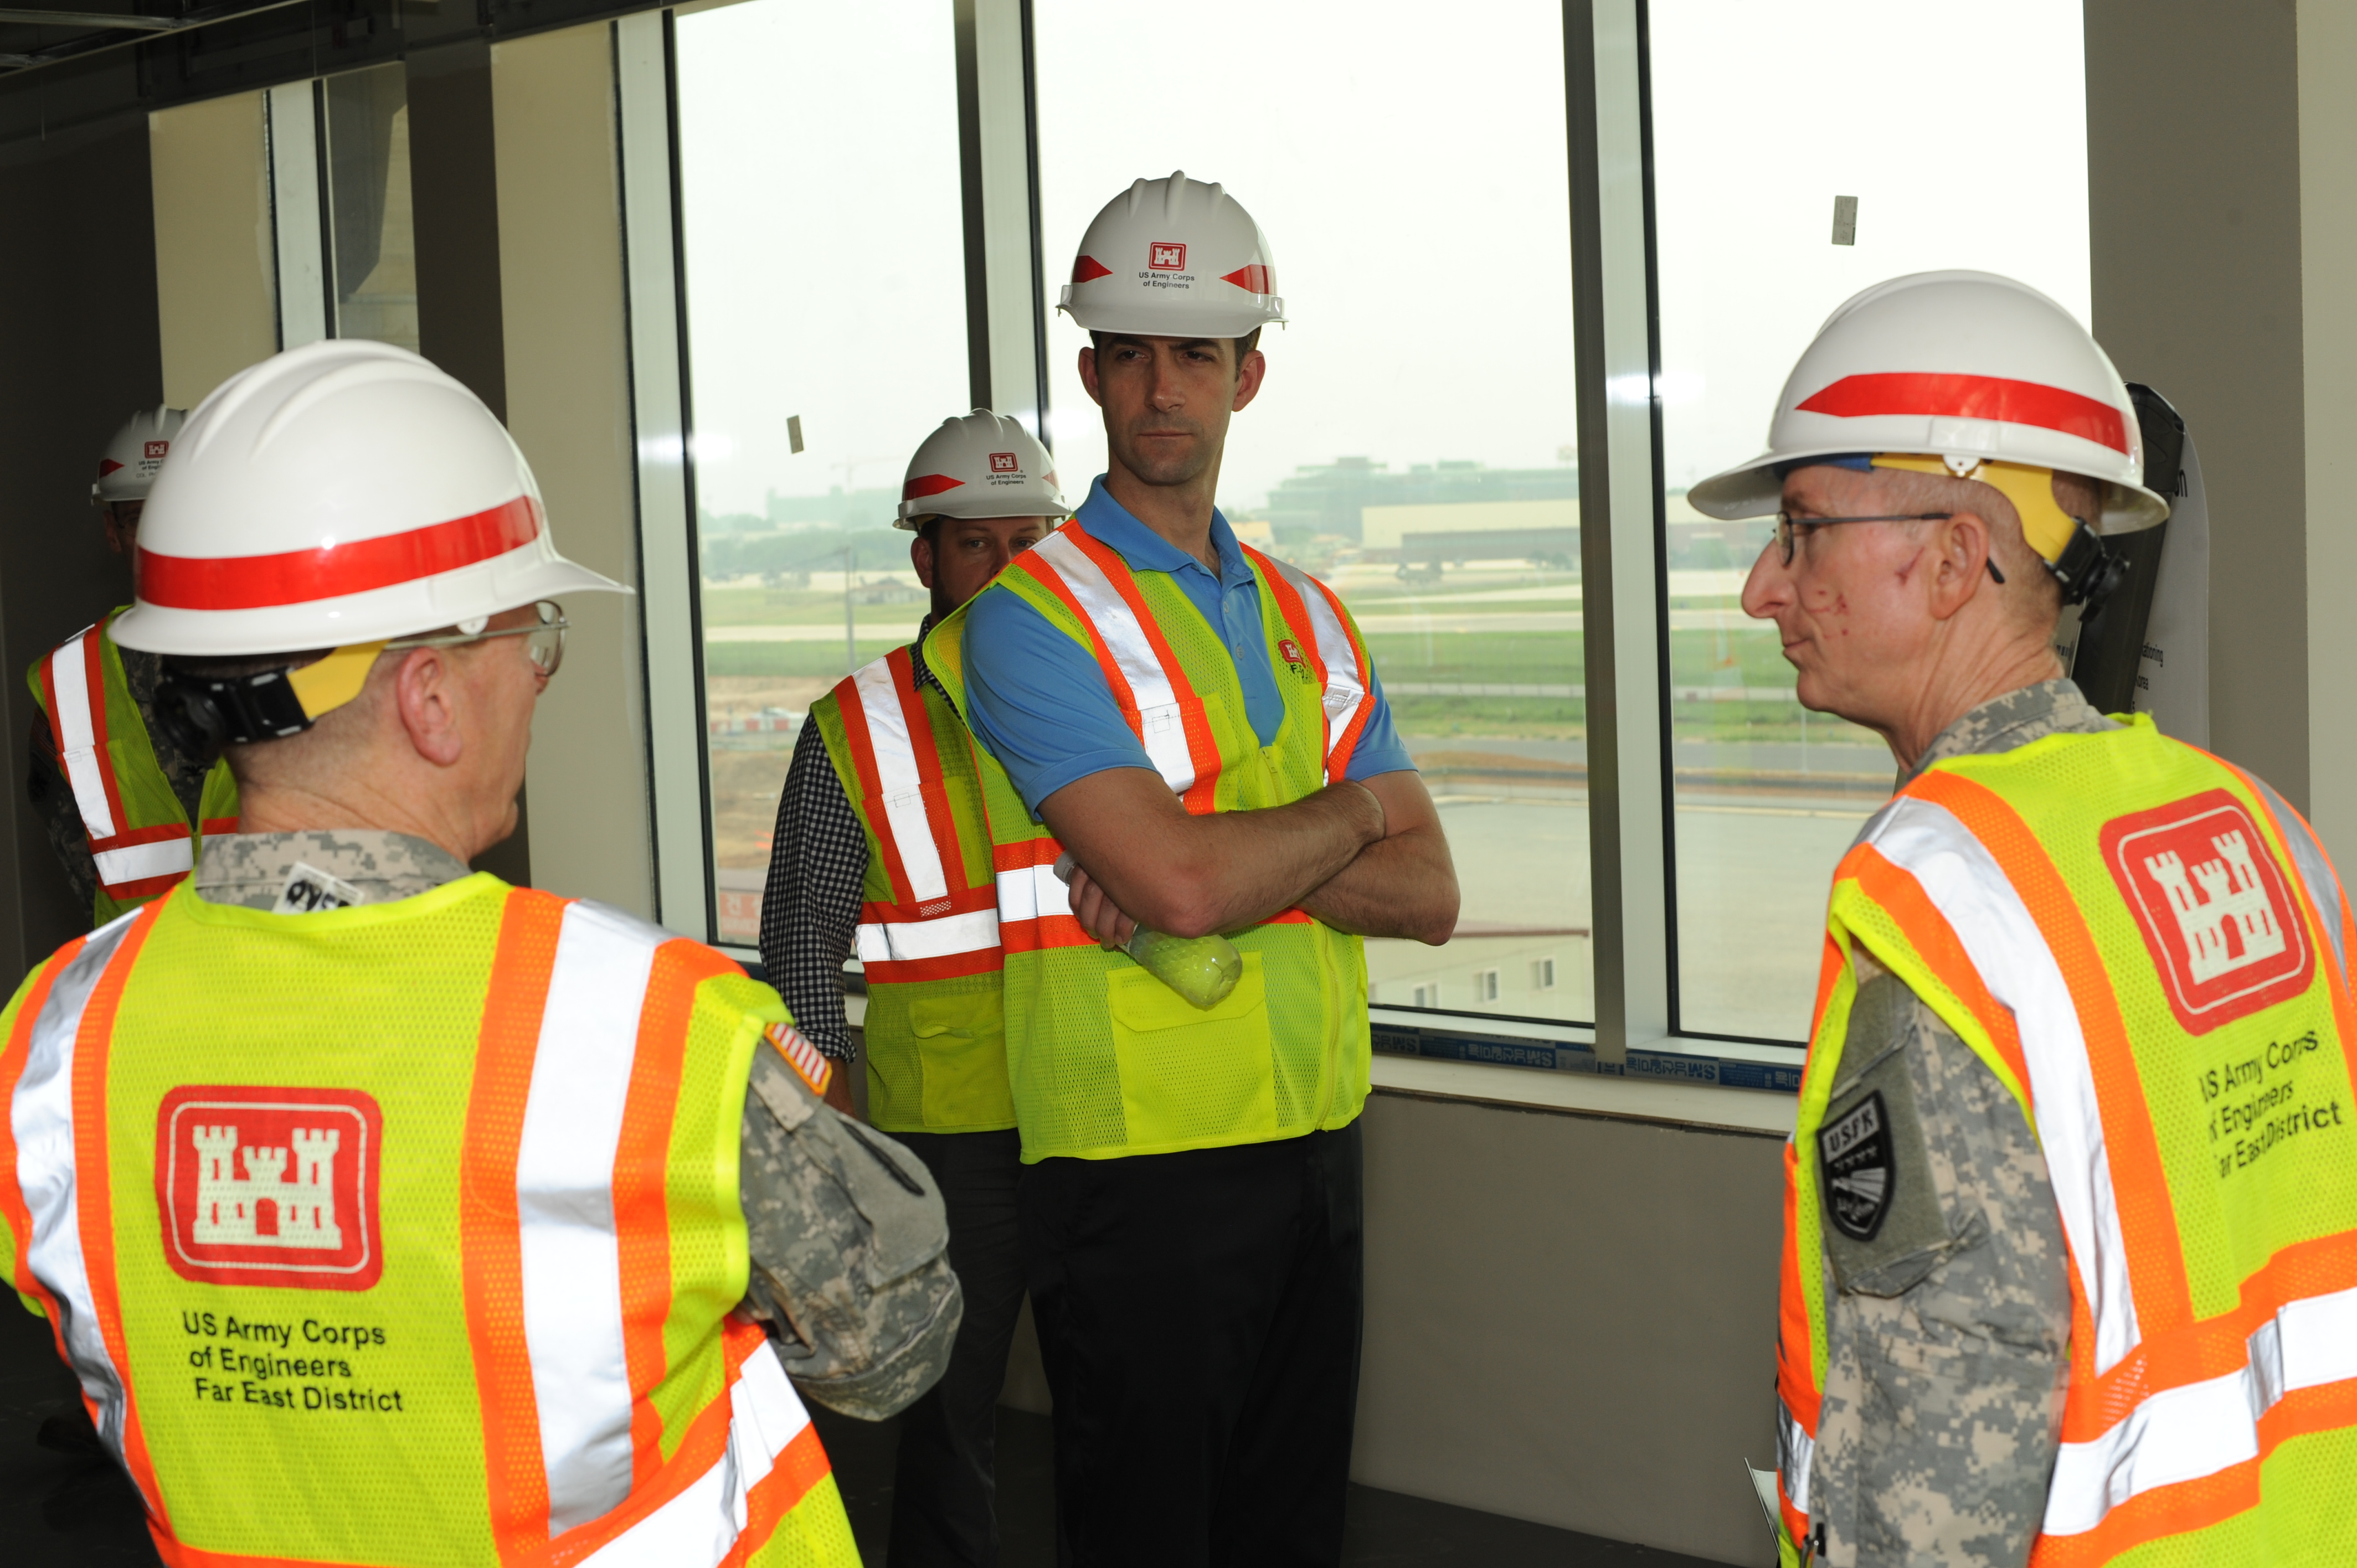helmet: (128, 352, 556, 642), (1752, 268, 2145, 467), (1067, 173, 1274, 336), (899, 420, 1074, 516)
